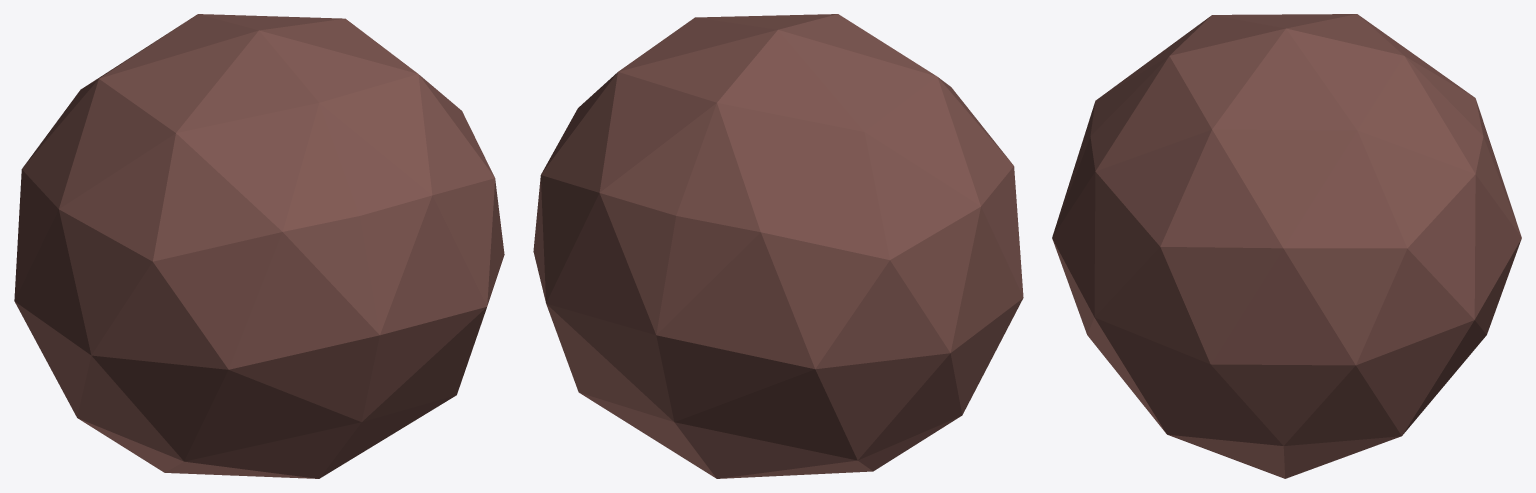
File: palmtree_crop.gltf
The picture shows the model from 3 angles, left to right: view 1: azimuth 30°, elevation 25°; view 2: azimuth 150°, elevation 25°; view 3: azimuth 270°, elevation 25°; orthographic projection. The views are drawn at different scales.
Visible parts, largest first — view 1: palmtree_crop; view 2: palmtree_crop; view 3: palmtree_crop.
Part boxes in pixels (bbox=[...]): palmtree_crop: bbox=[14, 14, 504, 478]; palmtree_crop: bbox=[533, 14, 1023, 478]; palmtree_crop: bbox=[1052, 14, 1521, 478].
Size of the model in its own units: 0.2243 by 0.2241 by 0.226.
1 material, 1 textured.
